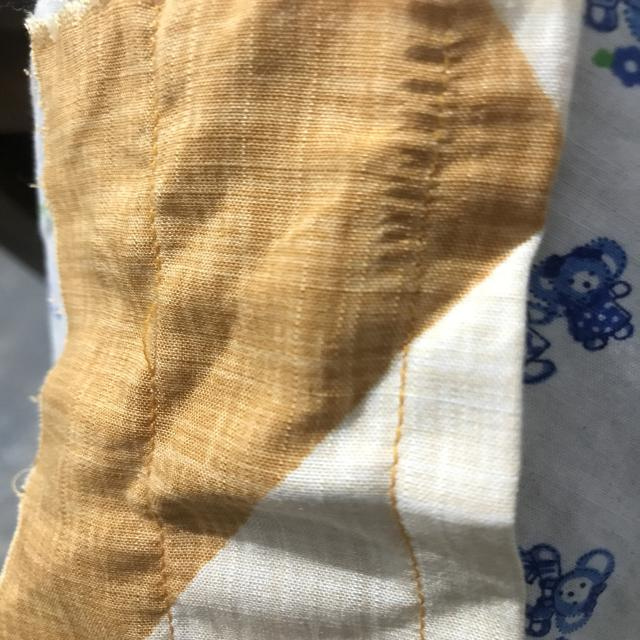skip: (124, 280, 180, 396)
